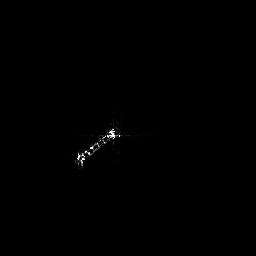ship: (72, 120, 123, 170)
